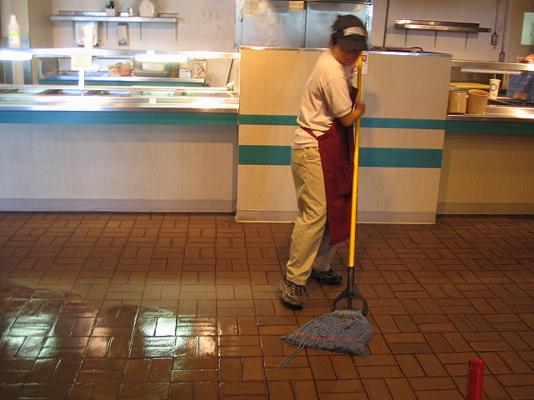person: (278, 15, 370, 311)
